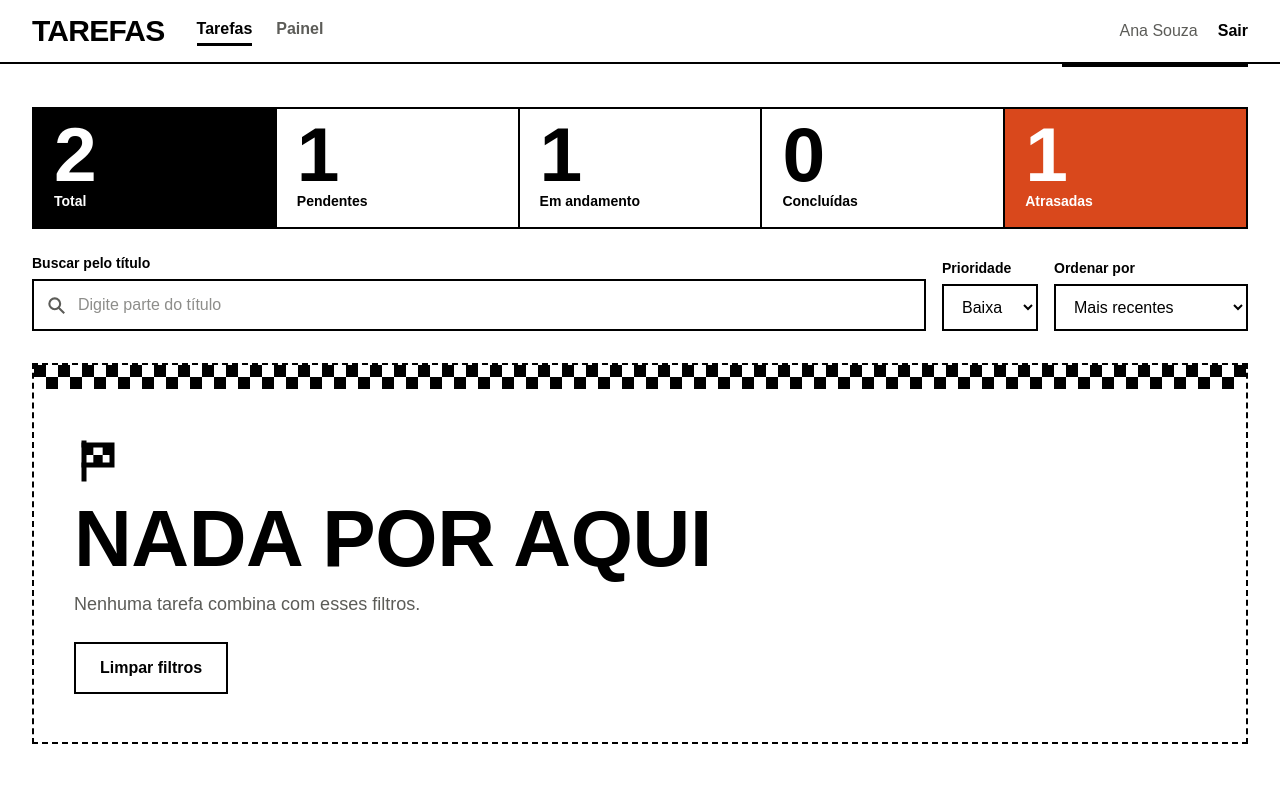
página de tarefas › com filtro e nenhum resultado, oferece limpar os filtros
The image size is (1280, 800).
(page scrolled)
Click the button "Limpar filtros". click: (151,668)
box: x1=74 y1=642 x2=228 y2=694
(page scrolled)
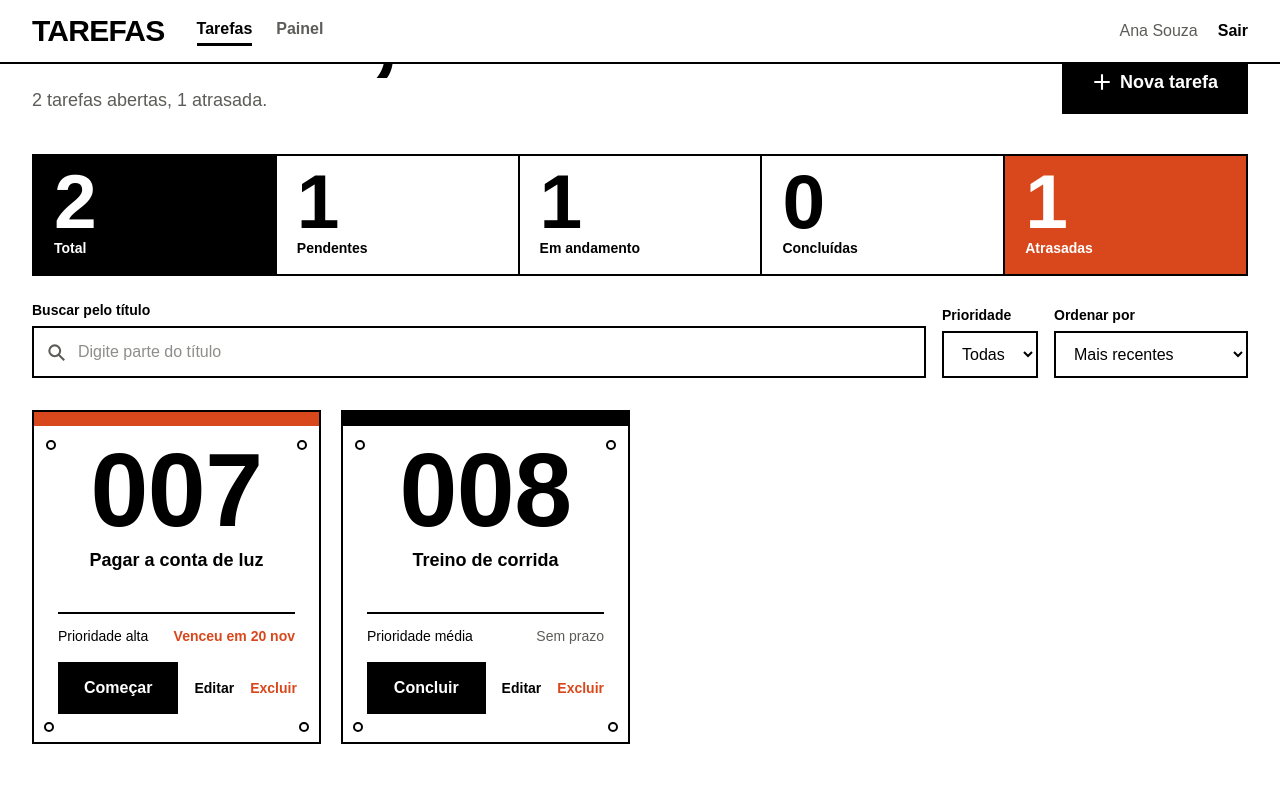
Expected: the element named "Tarefa 007" is shown, x1=32 y1=410 x2=321 y2=744
Expected: the dropdown labelled "Prioridade" shows "Todas", x1=942 y1=331 x2=1038 y2=378
